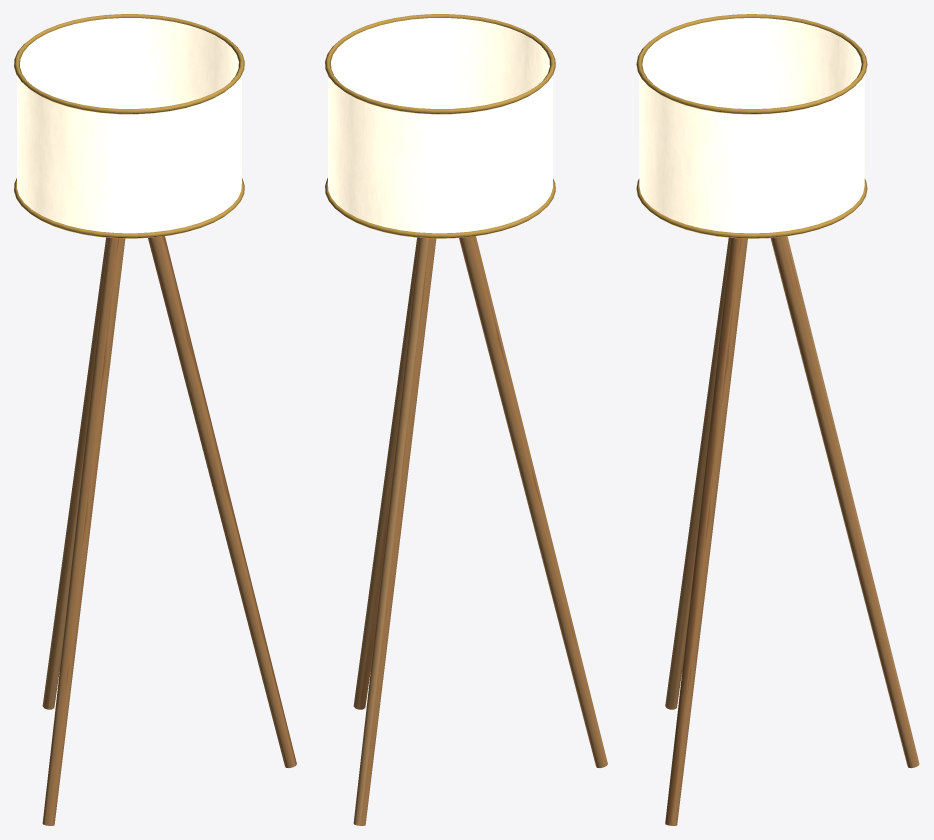
File: tripod_lamp.glb
3 renders of one model, left to right at view 1: azimuth 30°, elevation 25°; view 2: azimuth 150°, elevation 25°; view 3: azimuth 270°, elevation 25°, orthographic.
Parts seen in each view (by area): view 1: model; view 2: model; view 3: model.
Boxes of the visible parts, box(x1,y1,x2,y2) form: model: box(14, 14, 296, 825); model: box(325, 14, 607, 825); model: box(636, 14, 919, 825).
Size of the model in its own units: 0.5962 by 1.59 by 0.5783.
Materials: 4 (4 with a texture image).
